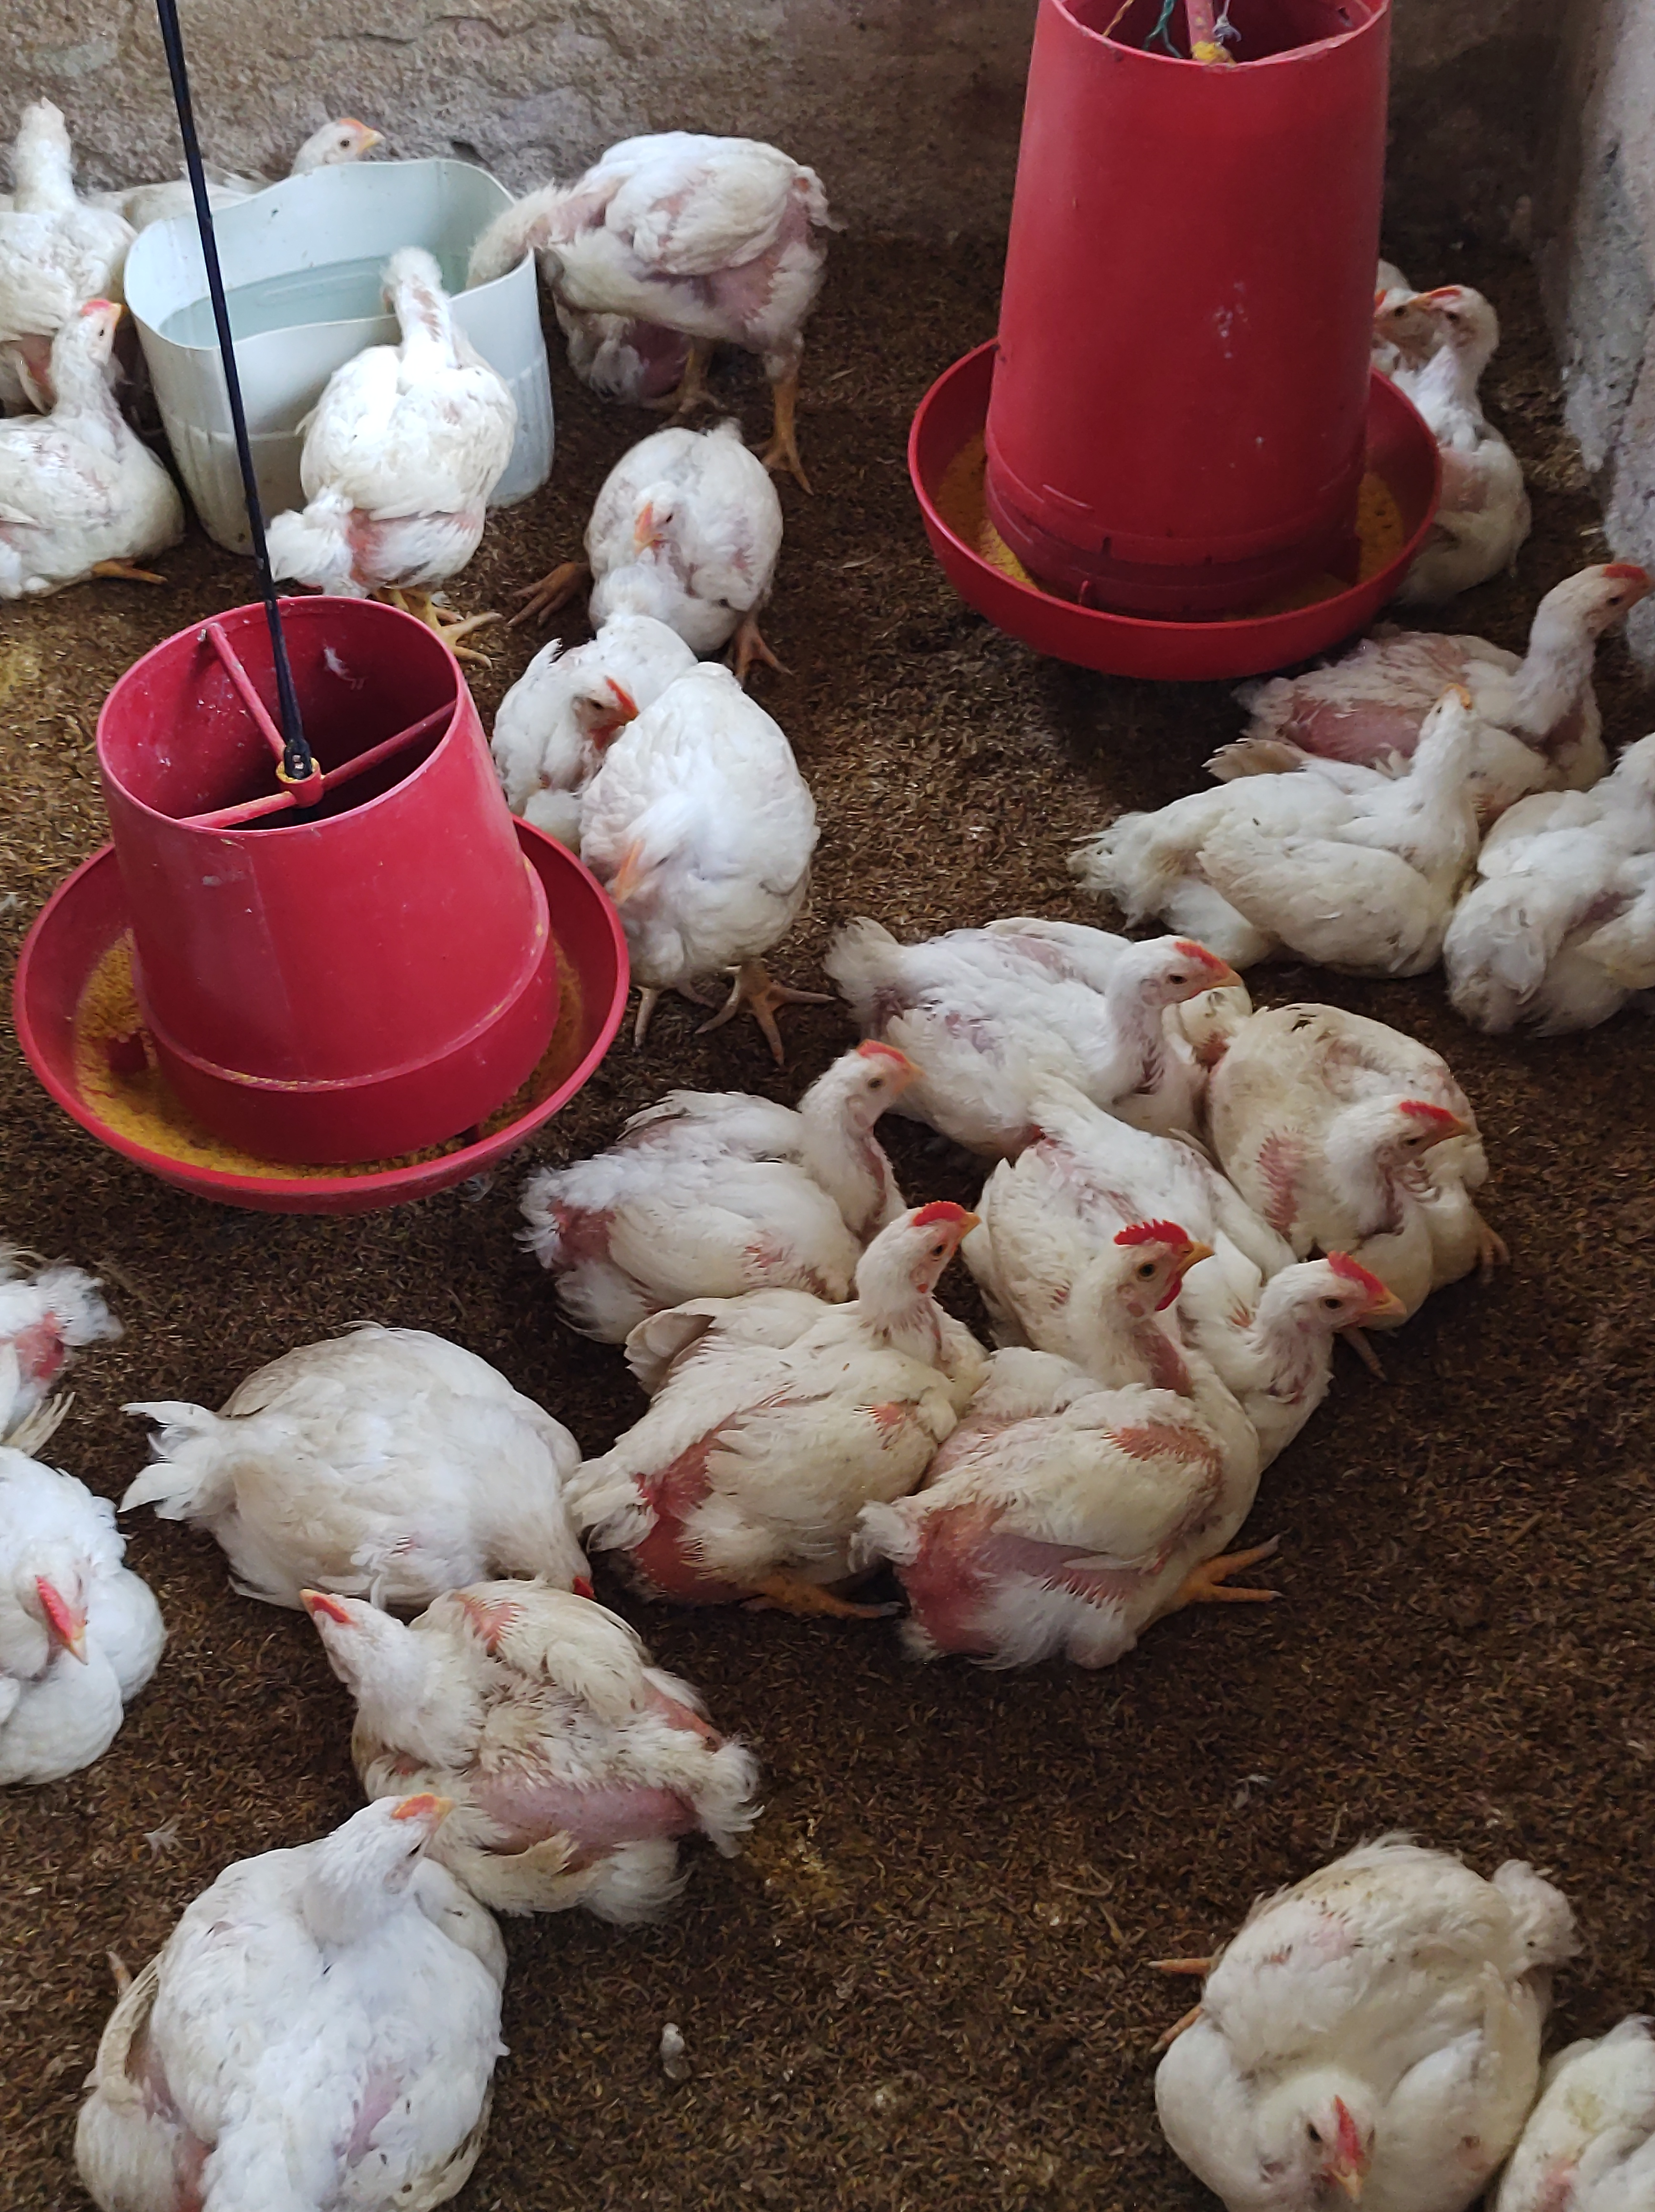Pollos: (1142, 1786, 1559, 2212), (283, 1556, 741, 1906), (134, 1789, 489, 2203), (113, 1306, 595, 1598), (603, 1198, 1000, 1508), (464, 123, 861, 398), (257, 240, 506, 612), (1088, 689, 1488, 920), (829, 922, 1240, 1111), (603, 680, 831, 998), (1448, 710, 1652, 1050), (1227, 1000, 1499, 1254), (530, 1045, 921, 1205), (534, 433, 840, 635), (1012, 1219, 1238, 1492), (0, 296, 209, 590), (0, 1456, 177, 1786), (0, 1228, 139, 1480), (2, 78, 165, 290), (1229, 1256, 1443, 1396), (249, 63, 424, 205), (469, 631, 666, 743), (1474, 562, 1655, 682), (1410, 268, 1521, 400), (1349, 252, 1434, 356)
